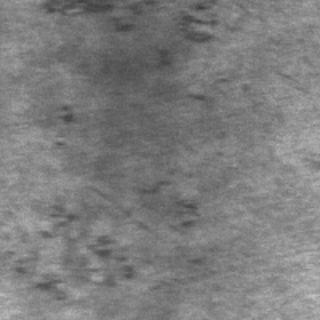rolled pit: (3, 176, 190, 298), (41, 0, 220, 48)
